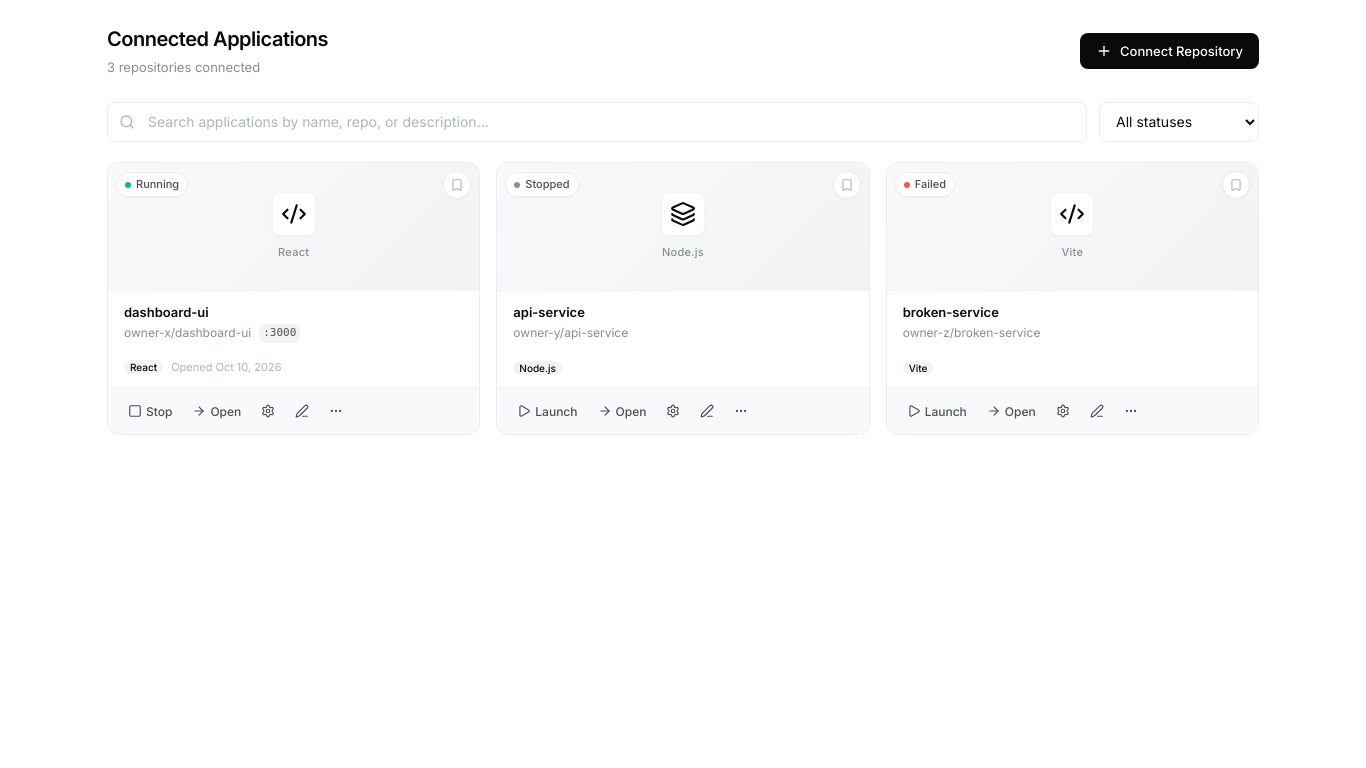
Scenario: Connected Apps Grid, Full-Screen, and Customization › 2. Connected Repositories Grid › provides Configure action that opens configuration modal
The image size is (1366, 768).
Click the button named "Configure dashboard-ui". click: (268, 411)
box: [253,396,283,426]
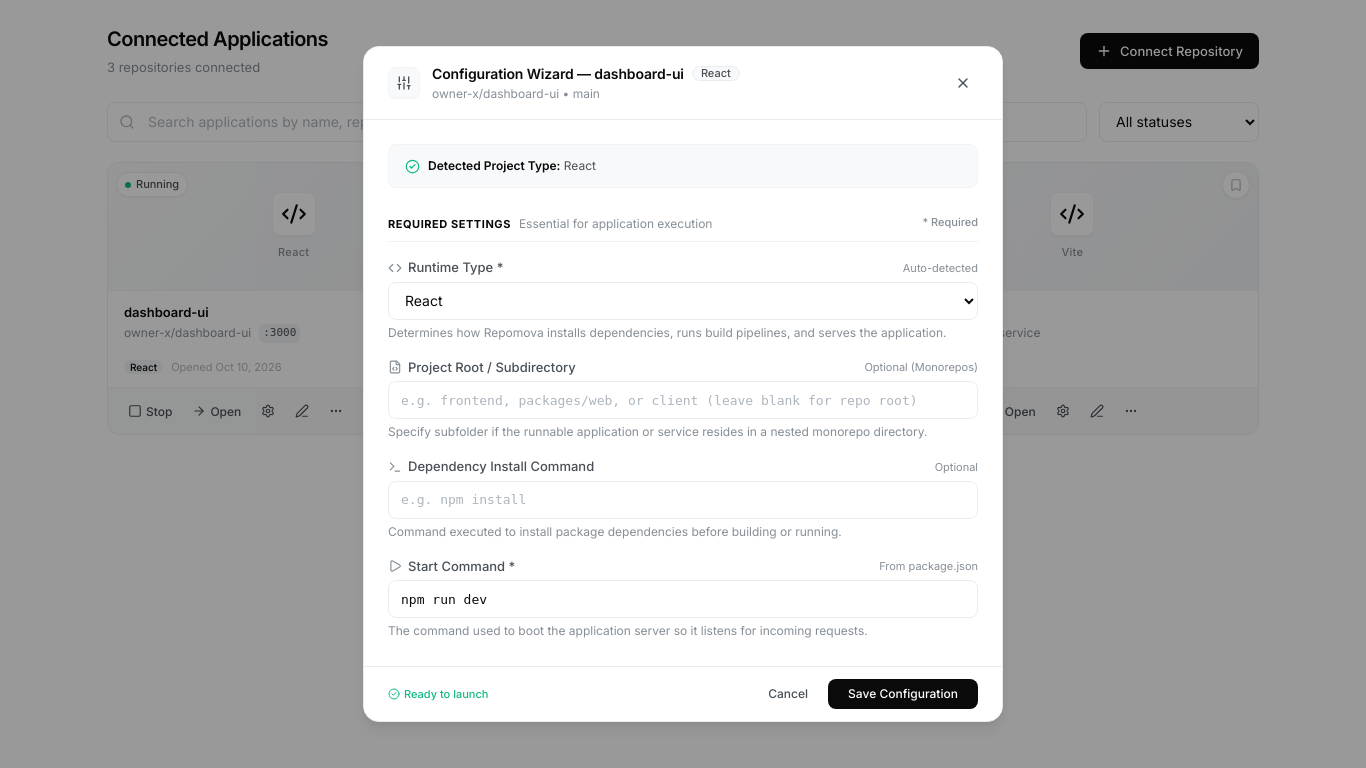
Check: the heading "Configuration Wizard — dashboard-ui" is shown, box [432,63,684,84]
